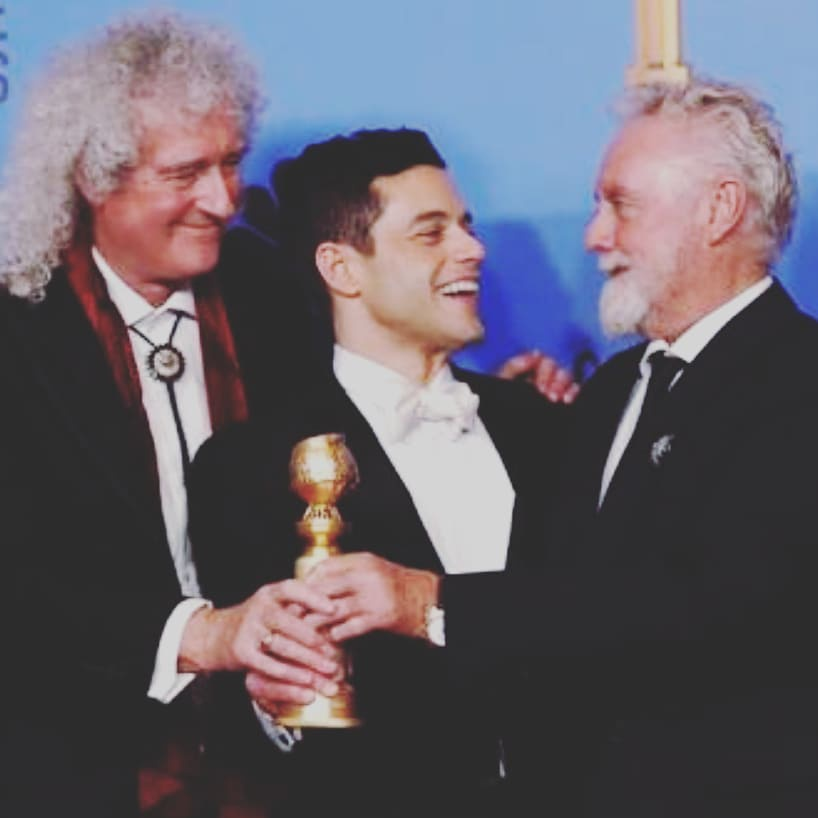hand: (492, 357, 580, 440)
